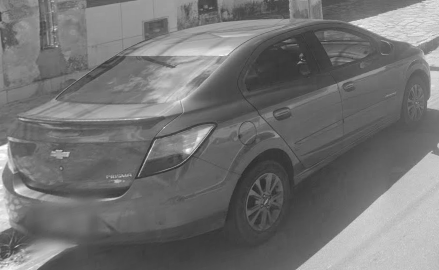car: (1, 19, 431, 238)
